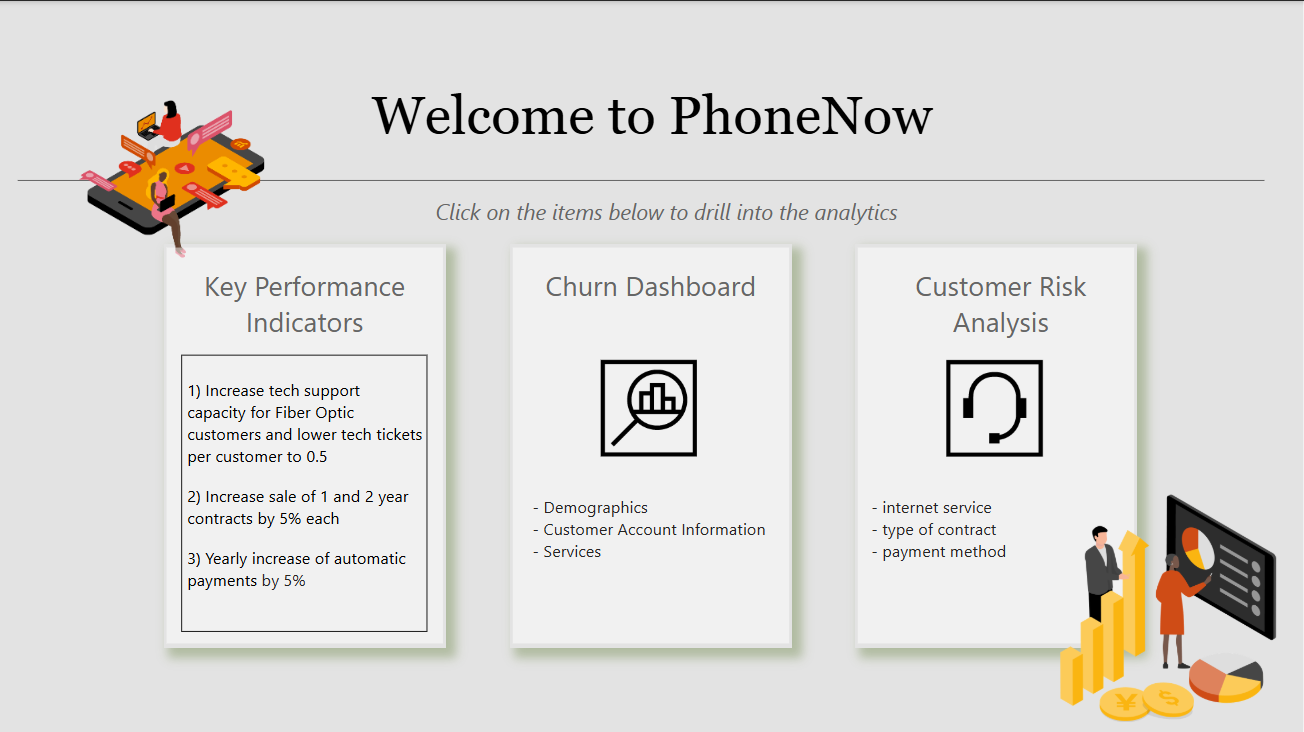

The dashboard page shown, as its layout file describes it:
{"tool":"powerbi","page":{"name":"Welcome","canvas":[1280,720],"ordinal":0},"visuals":[{"type":"basicShape","box":[500.5,238.4,276.8,396.5],"z":0},{"type":"basicShape","box":[839.4,238.4,276.8,396.5],"z":1000},{"type":"textbox","box":[0,77,1280,78.9],"z":2000},{"type":"basicShape","box":[7.9,155.9,1243.8,40.7],"z":3000},{"type":"image","box":[924.5,347.8,105,105],"z":4000},{"type":"textbox","box":[843.6,256.2,276.7,86.7],"z":5000},{"type":"image","box":[584.4,347.8,105,105],"z":6000},{"type":"textbox","box":[28.2,186.1,1251.8,51.6],"z":7000},{"type":"image","box":[0,0,362.6,328.8],"z":8000},{"type":"textbox","box":[500.9,256.2,276.7,86.7],"z":9000},{"type":"textbox","box":[517.4,479.5,255.3,140.1],"z":10000},{"type":"textbox","box":[7.9,672.2,397.7,47.4],"z":11000},{"type":"image","box":[1013.1,479.3,266.9,232.8],"z":12000},{"type":"textbox","box":[850.4,479.3,255.2,140.3],"z":13000},{"type":"basicShape","box":[160.4,238.4,276.8,396.5],"z":14000},{"type":"textbox","box":[160.7,256.2,276.7,86.7],"z":15000},{"type":"textbox","box":[178.3,347.8,241.6,271.8],"z":16000}]}

Visuals, with their boxes in screenshot pixels (x1, y1, x2, y2), scaled from the page's 1280x720 canvas onto the 1304x732 screenshot:
basicShape: crop(510, 242, 792, 645)
basicShape: crop(855, 242, 1137, 645)
textbox: crop(0, 78, 1303, 158)
basicShape: crop(8, 158, 1275, 200)
image: crop(942, 354, 1049, 460)
textbox: crop(859, 260, 1141, 349)
image: crop(595, 354, 702, 460)
textbox: crop(29, 189, 1303, 242)
image: crop(0, 0, 369, 334)
textbox: crop(510, 260, 792, 349)
textbox: crop(527, 487, 787, 630)
textbox: crop(8, 683, 413, 731)
image: crop(1032, 487, 1303, 724)
textbox: crop(866, 487, 1126, 630)
basicShape: crop(163, 242, 445, 645)
textbox: crop(164, 260, 446, 349)
textbox: crop(182, 354, 428, 630)
